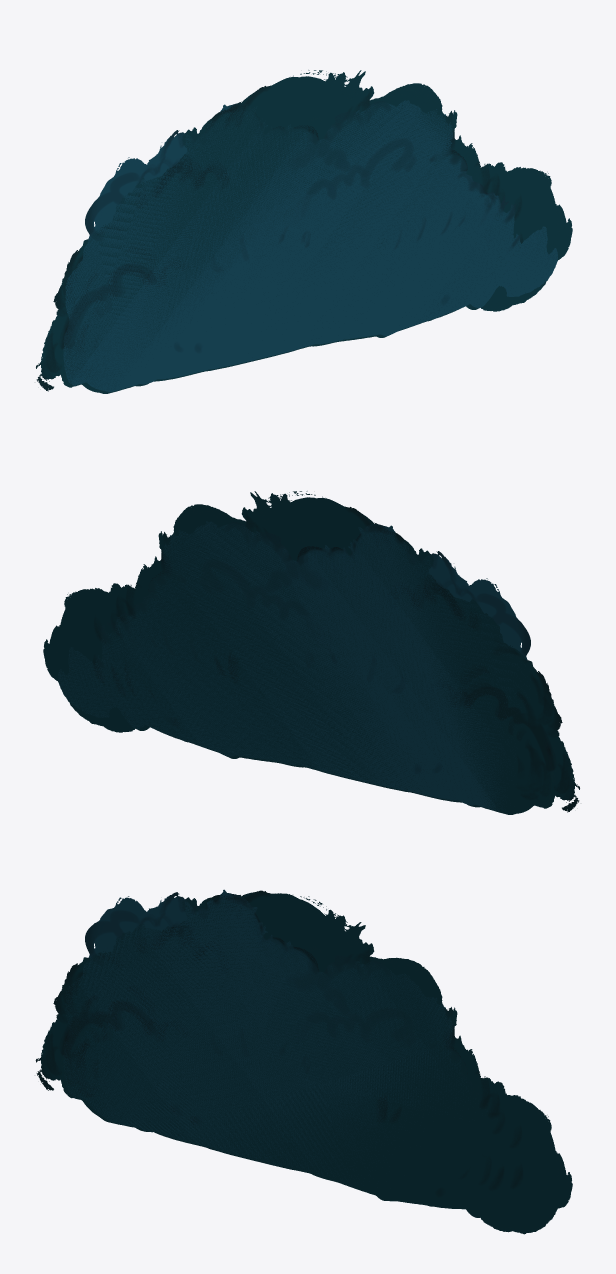
The model's file is env_foliageBushes.fbx.
3 views of the same model, one above another, from view 1: azimuth 30°, elevation 25°; view 2: azimuth 150°, elevation 25°; view 3: azimuth 330°, elevation 25° (orthographic).
Visible parts, largest first — view 1: env_bush_2, env_bush_1; view 2: env_bush_1, env_bush_2; view 3: env_bush_1, env_bush_2.
Boxes of the visible parts, <box> form: env_bush_2: <box>63,100,557,391</box>; env_bush_1: <box>36,70,572,393</box>; env_bush_1: <box>43,491,579,814</box>; env_bush_2: <box>58,521,530,811</box>; env_bush_1: <box>35,890,572,1234</box>; env_bush_2: <box>63,889,556,1222</box>.
Bounding box in the file's own units: 592 × 336 × 5.72e-06.
1 material, 1 textured.
